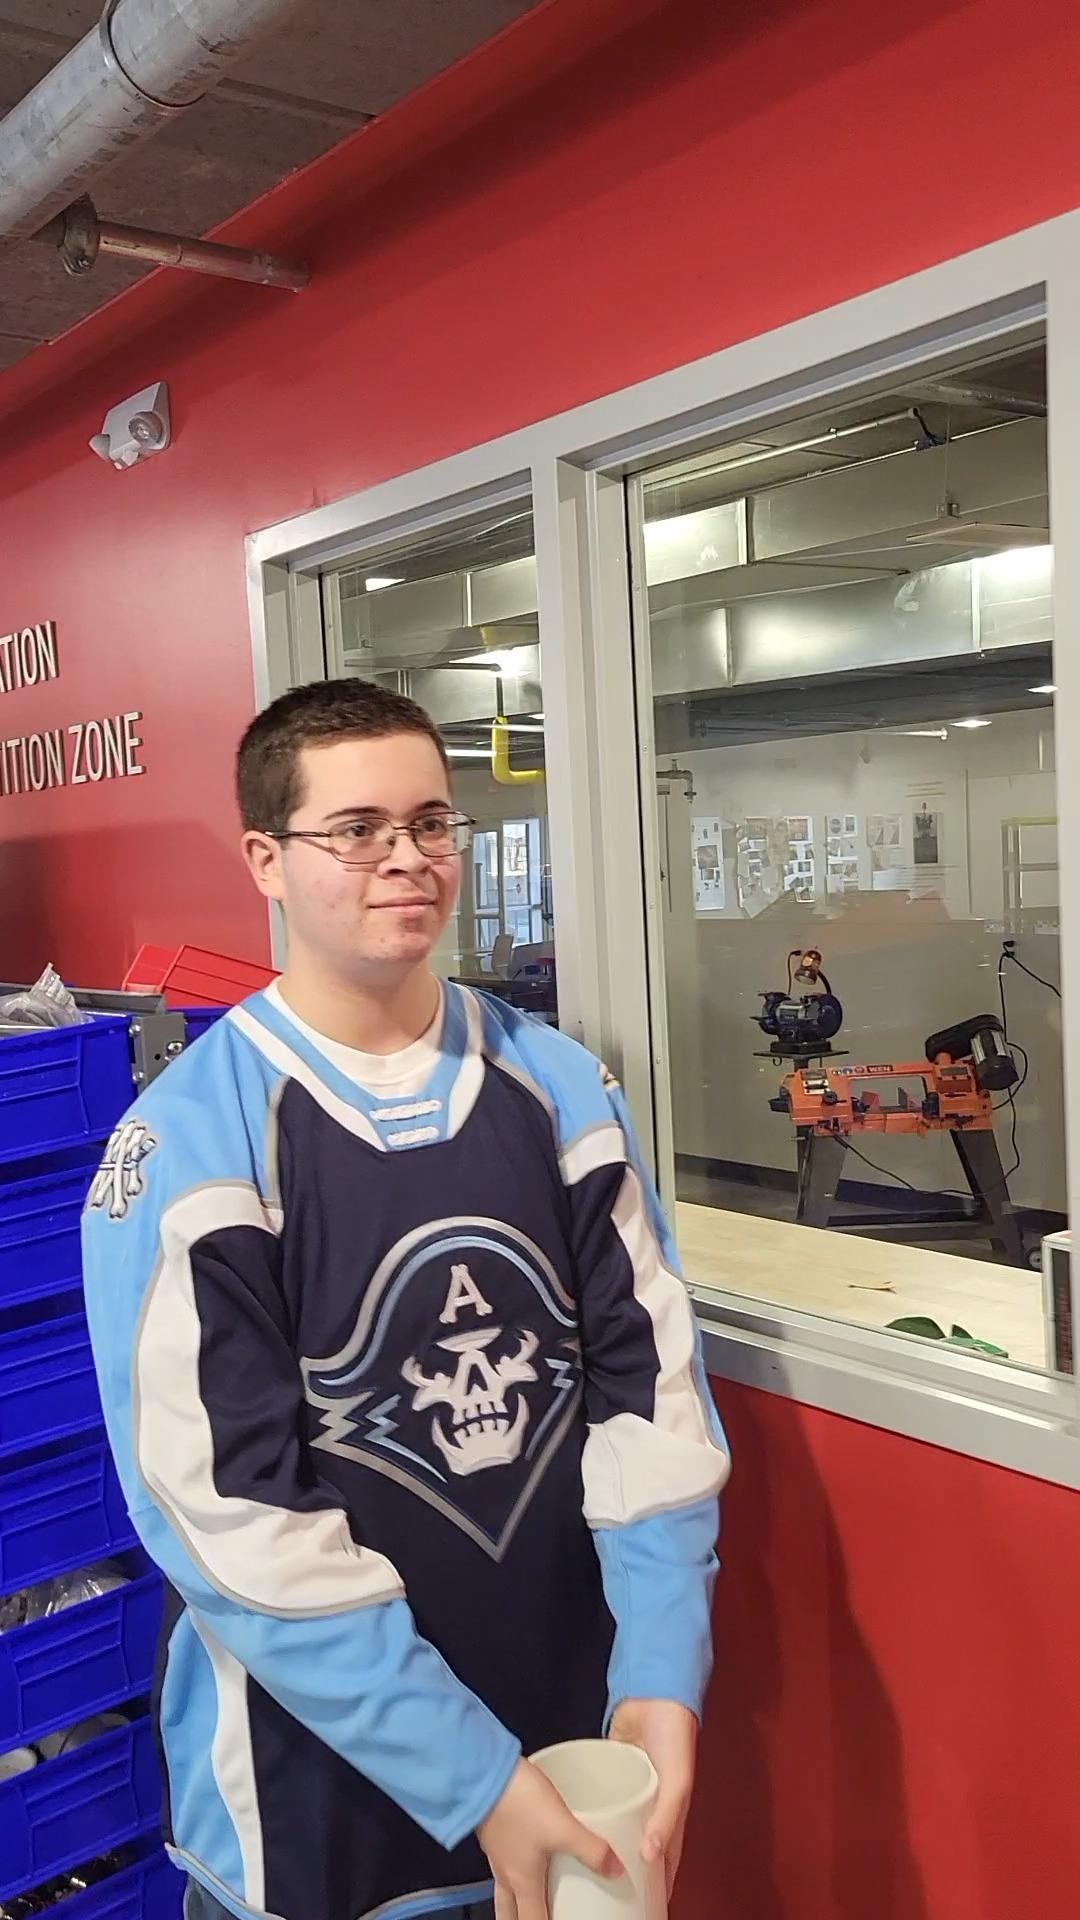coral: (506, 1726, 667, 1920)
